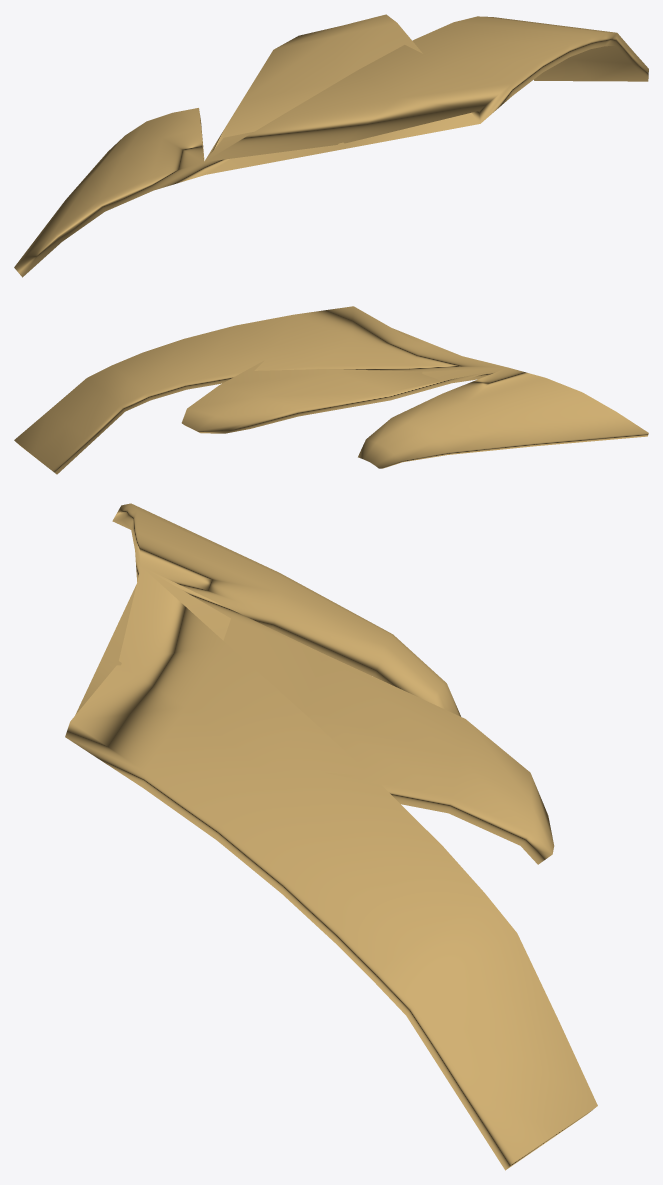
The picture shows the model from 3 angles, top to bottom: view 1: azimuth 30°, elevation 25°; view 2: azimuth 150°, elevation 25°; view 3: azimuth 270°, elevation 25°; orthographic projection. The views are drawn at different scales.
Parts seen in each view (by area): view 1: 右侧桡腕背侧韧带; view 2: 右侧桡腕背侧韧带; view 3: 右侧桡腕背侧韧带.
Boxes of the visible parts, x1,y1,x2,y2 form: 右侧桡腕背侧韧带: [14, 14, 648, 277]; 右侧桡腕背侧韧带: [14, 306, 648, 474]; 右侧桡腕背侧韧带: [65, 503, 597, 1170].
Bounding box in the file's own units: 0.0497 × 0.0102 × 0.0214.
